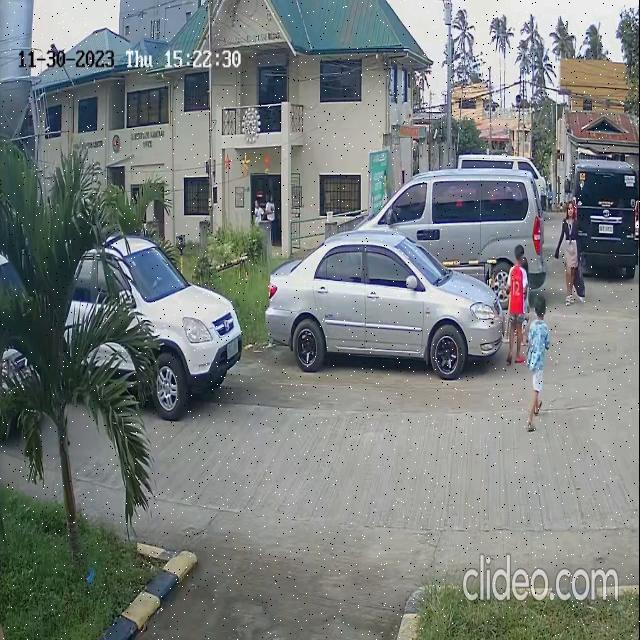human: (521, 299, 554, 443), (505, 236, 532, 380), (559, 198, 579, 311)
trash: (574, 258, 586, 304)
